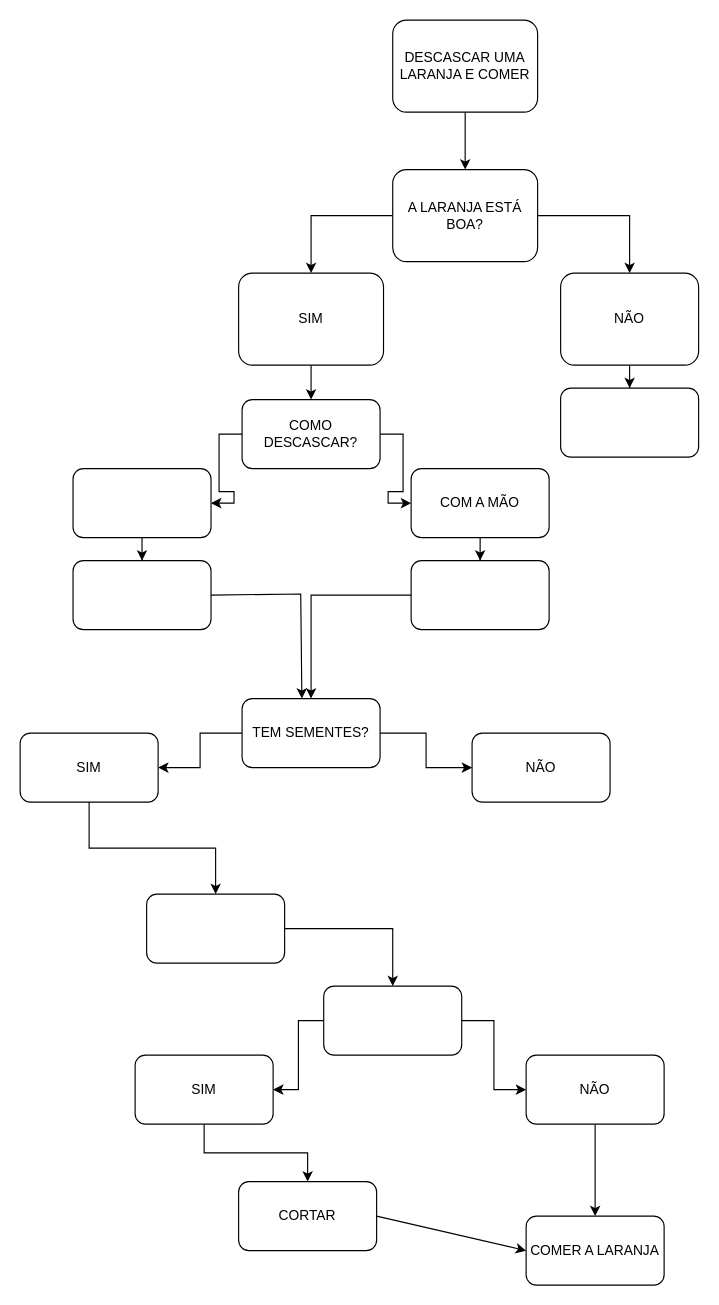
Some shapes in this 719 by 1305 pixel diagram are drawn without their labels. The shapes that lost their labels are listed below. From the top down, each one's centre as x and y in pixels, then its label:
the point at 629,422: PROCURAR OUTRA
the point at 141,502: COM FACA
the point at 141,594: DESCASCAR MAIS RAPIDAMENTE
the point at 479,594: LAVAR A MÃO ADEQUADAMENTE
the point at 215,928: RETIRAR SEMENTES
the point at 392,1020: CORTAR EM PEDAÇÕS?
